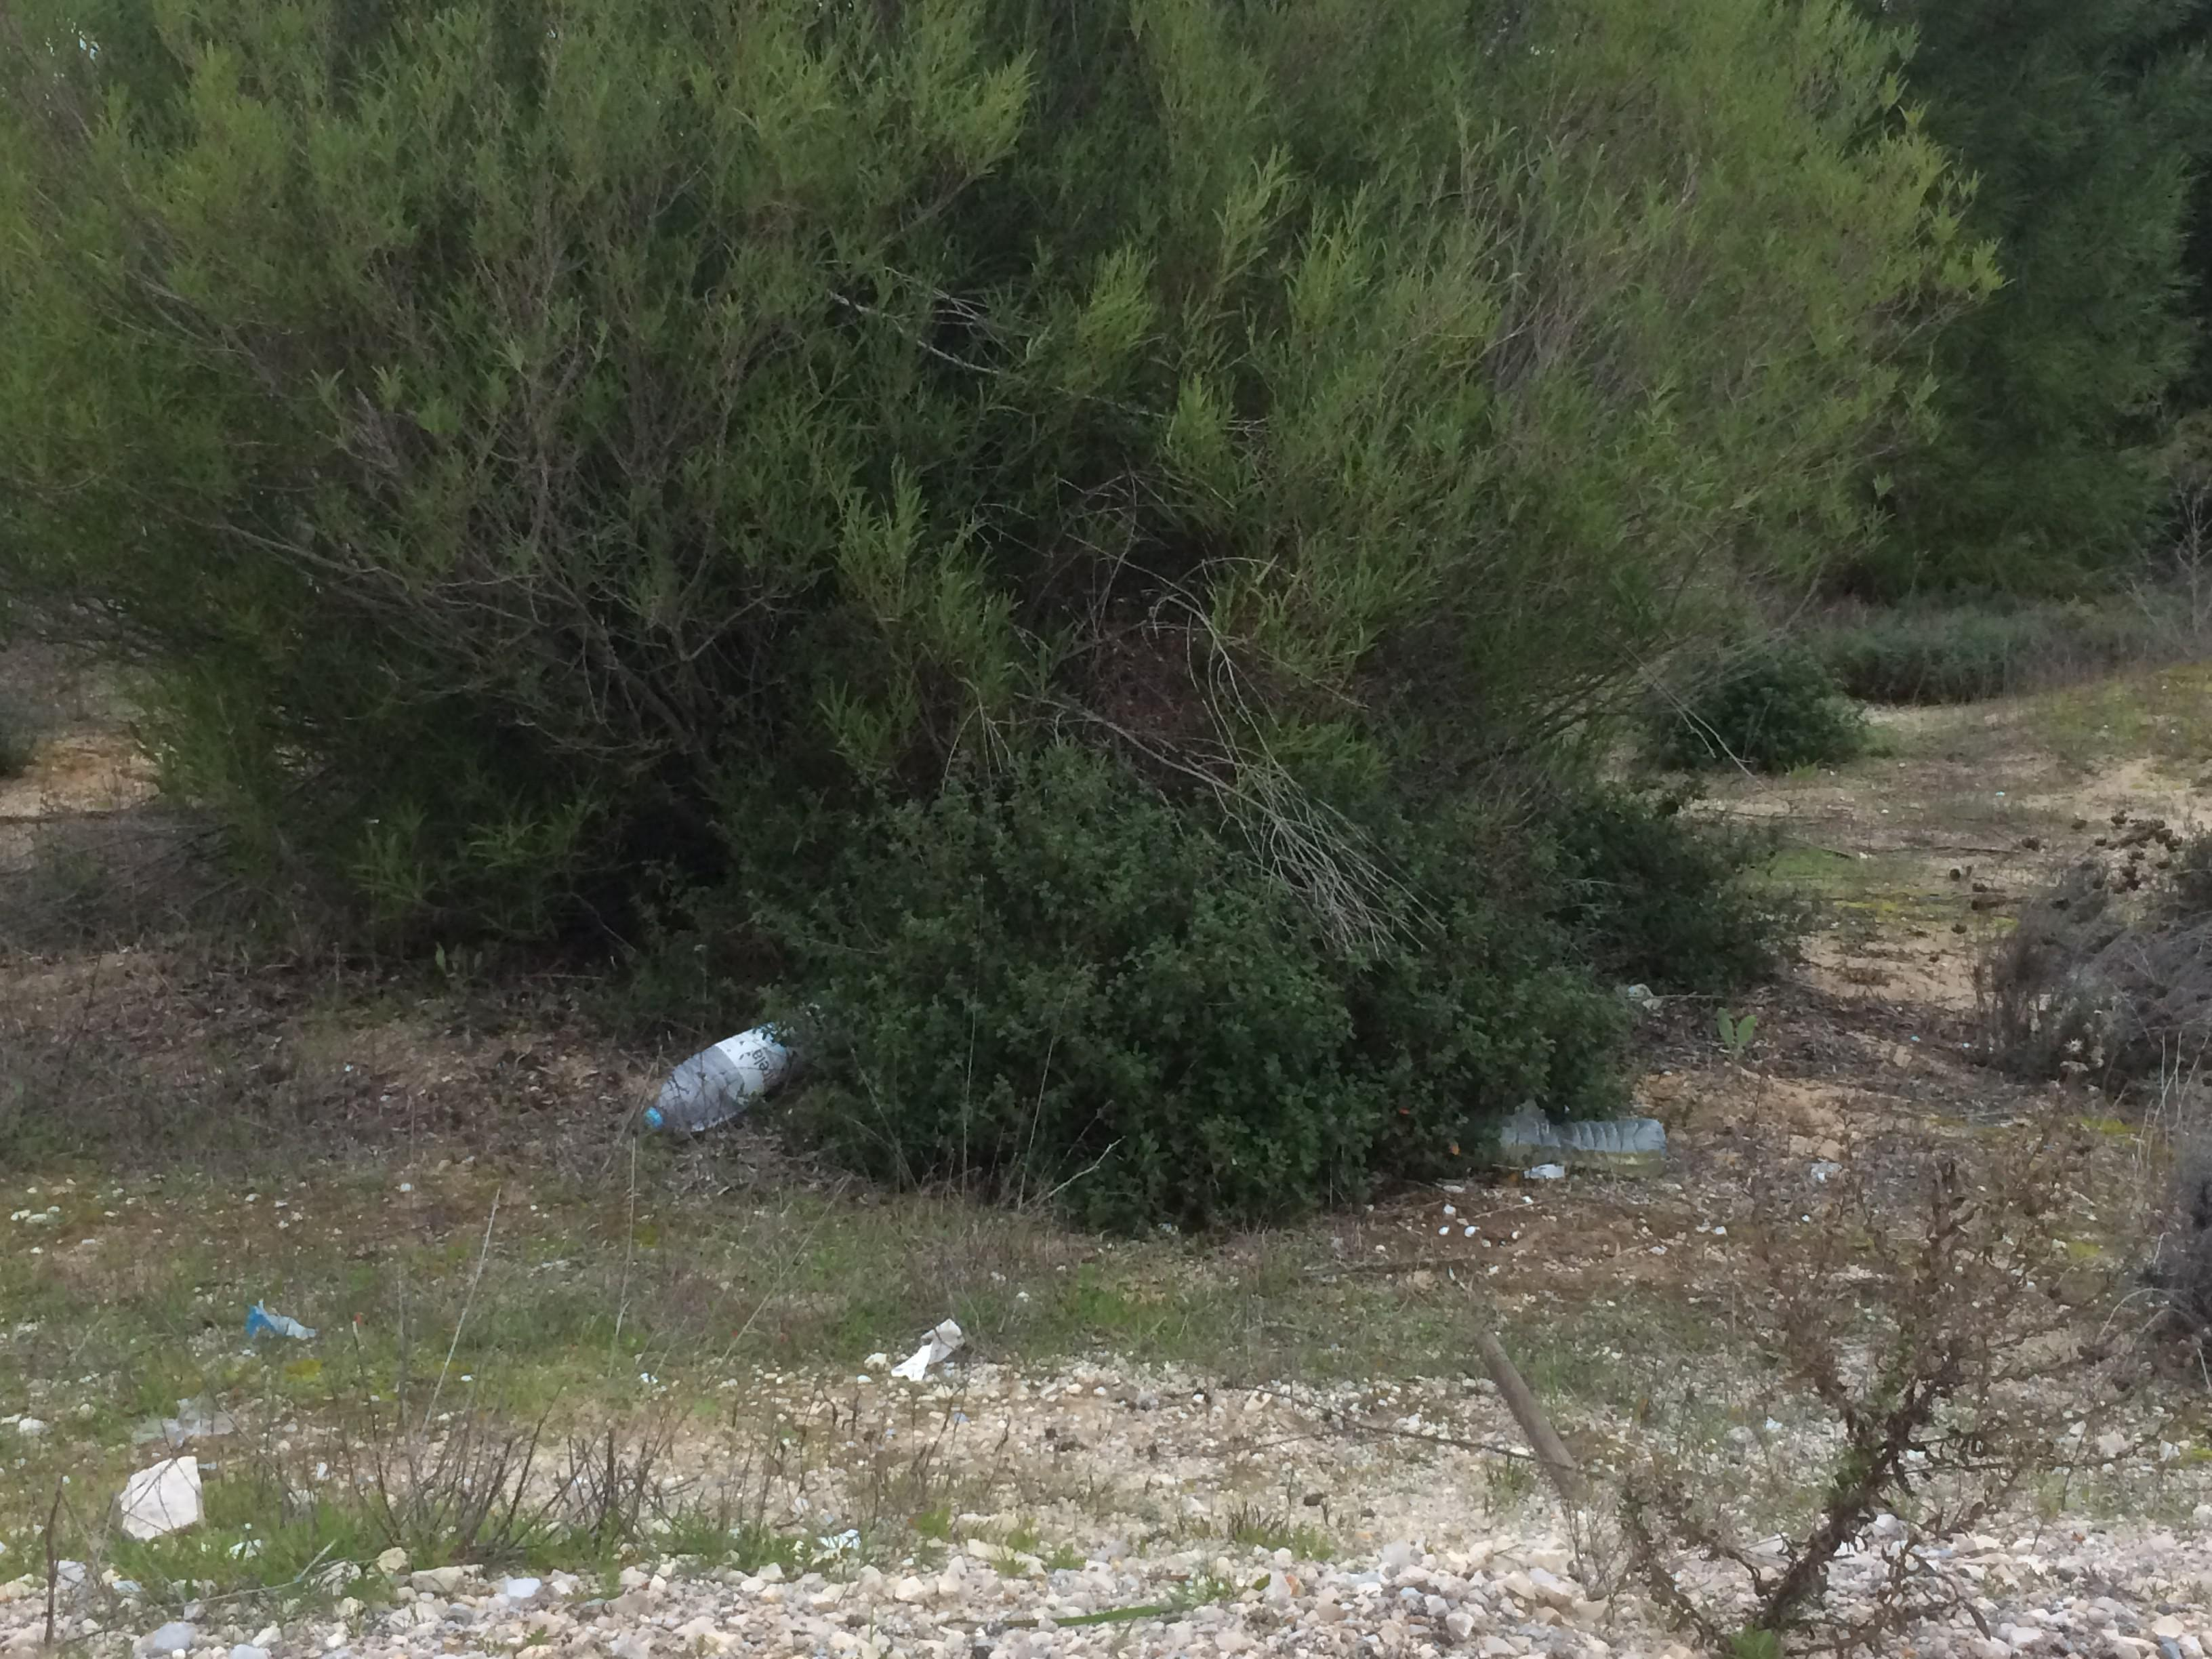Trash: (637, 1000, 841, 1134), (1491, 1112, 1662, 1178), (117, 1457, 200, 1541), (888, 1304, 954, 1384), (240, 1295, 312, 1345)
